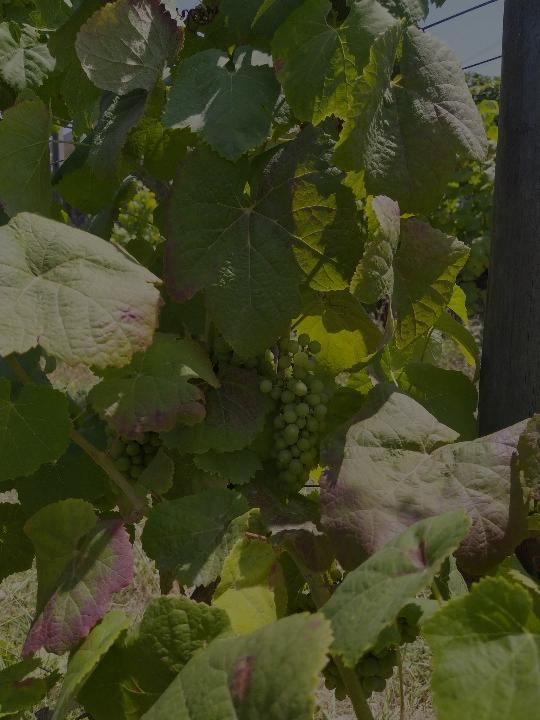grape: (259, 332, 331, 494)
